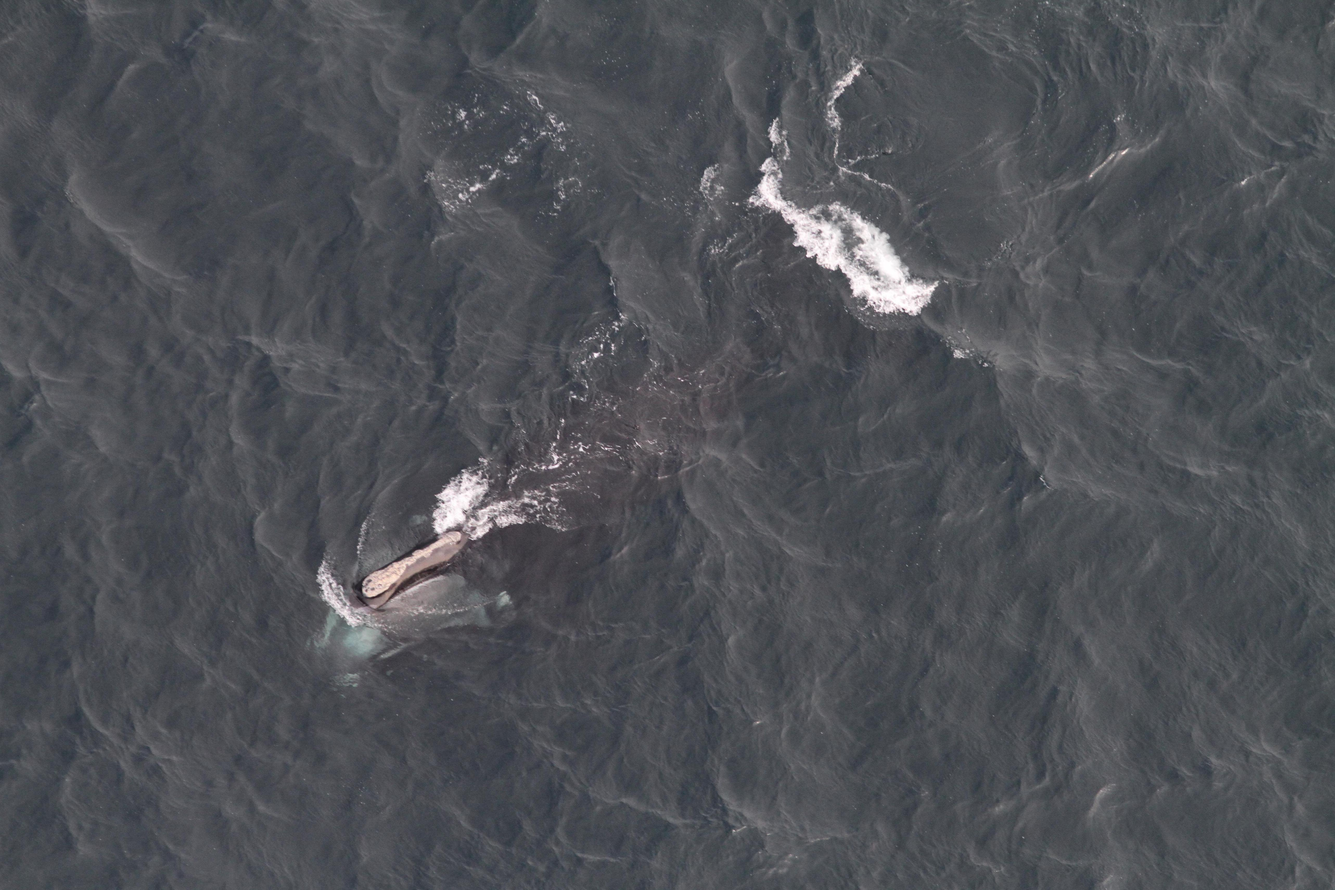whale: (292, 236, 869, 695)
